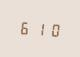one: (33, 19, 46, 37)
six: (18, 18, 31, 36)
zero: (47, 20, 60, 38)
